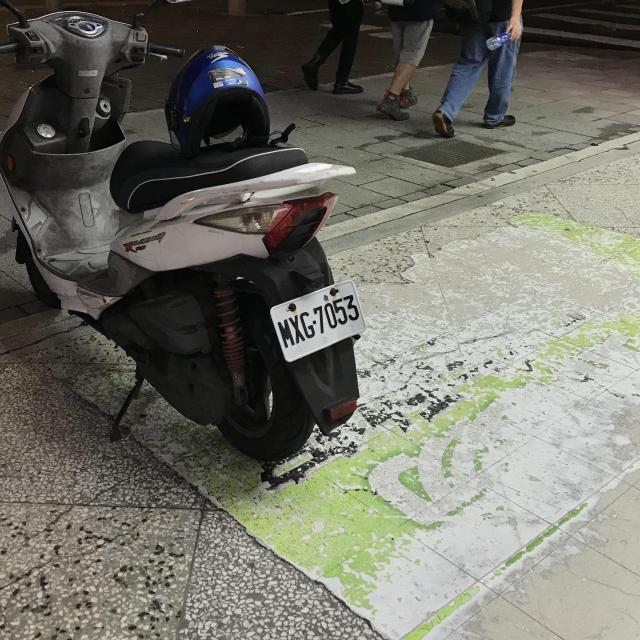W: (267, 278, 370, 364)
